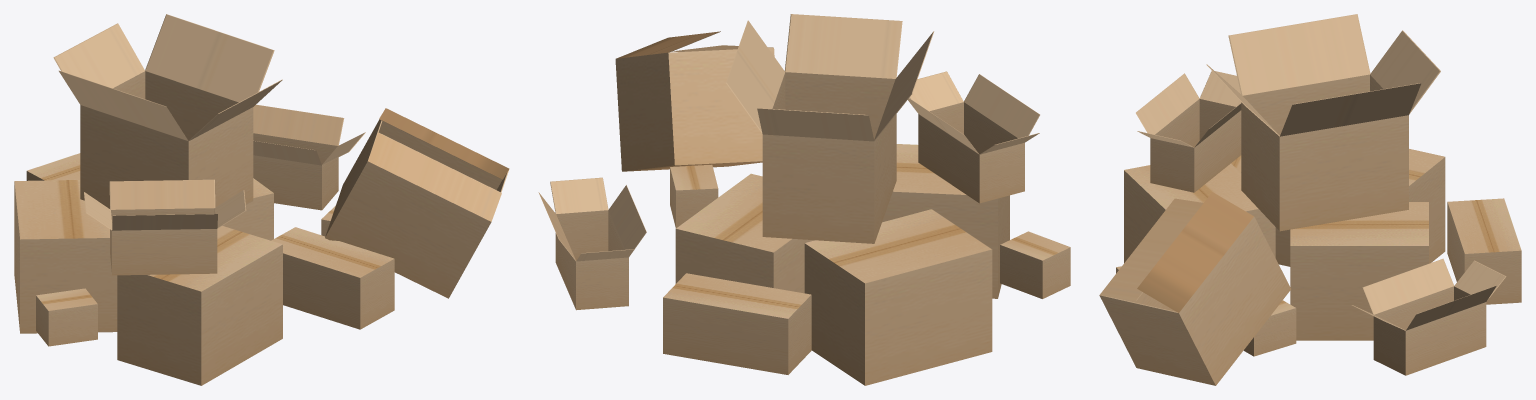
Rendered from psx_style_cardboard_boxes.glb.
3 renders of one model, left to right at view 1: azimuth 30°, elevation 25°; view 2: azimuth 150°, elevation 25°; view 3: azimuth 270°, elevation 25°, orthographic. The views are drawn at different scales.
Parts seen in each view (by area): view 1: Box 2.001, Box 4, Box 1.002, Box 1.001, Box 5.001, Box 6, Box 5, Box 3.001, Box 1, Box 6.001; view 2: Box 2.001, Box 1.001, Box 4, Box 6.001, Box 5.001, Box 5, Box 1, Box 1.002, Box 3.001, Box 3; view 3: Box 2.001, Box 4, Box 1, Box 5, Box 5.001, Box 6.001, Box 1.002, Box 1.001, Box 3.
Boxes of the visible parts, left/top/right/bottom form: Box 2.001: left=53, top=14, right=282, bottom=208; Box 4: left=325, top=108, right=509, bottom=298; Box 1.002: left=117, top=226, right=282, bottom=385; Box 1.001: left=14, top=180, right=117, bottom=333; Box 5.001: left=84, top=179, right=246, bottom=275; Box 6: left=271, top=227, right=394, bottom=329; Box 5: left=253, top=104, right=365, bottom=210; Box 3.001: left=36, top=288, right=97, bottom=346; Box 1: left=222, top=178, right=273, bottom=240; Box 6.001: left=26, top=153, right=80, bottom=180; Box 2.001: left=726, top=14, right=934, bottom=243; Box 1.001: left=804, top=209, right=992, bottom=385; Box 4: left=615, top=31, right=774, bottom=171; Box 6.001: left=663, top=273, right=811, bottom=374; Box 5.001: left=908, top=71, right=1039, bottom=203; Box 5: left=538, top=177, right=646, bottom=310; Box 1: left=675, top=173, right=814, bottom=293; Box 1.002: left=882, top=144, right=1009, bottom=298; Box 3.001: left=1000, top=231, right=1070, bottom=298; Box 3: left=670, top=164, right=718, bottom=228; Box 2.001: left=1206, top=14, right=1440, bottom=231; Box 4: left=1099, top=192, right=1290, bottom=385; Box 1: left=1290, top=202, right=1428, bottom=340; Box 5: left=1352, top=258, right=1506, bottom=375; Box 5.001: left=1136, top=71, right=1241, bottom=192; Box 6.001: left=1447, top=198, right=1521, bottom=304; Box 1.002: left=1124, top=163, right=1275, bottom=262; Box 1.001: left=1275, top=149, right=1445, bottom=266; Box 3: left=1244, top=300, right=1296, bottom=356.
Size of the model in its own units: 9.77 by 5.02 by 8.09.
Materials: 11 (11 with a texture image).
